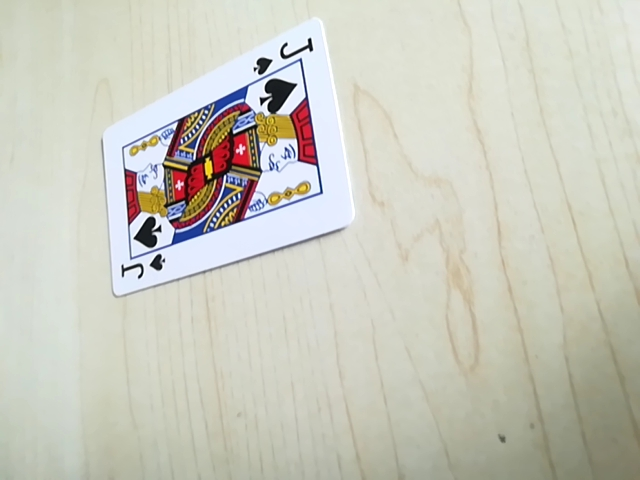ht j: (251, 33, 316, 76), (115, 246, 169, 289)
